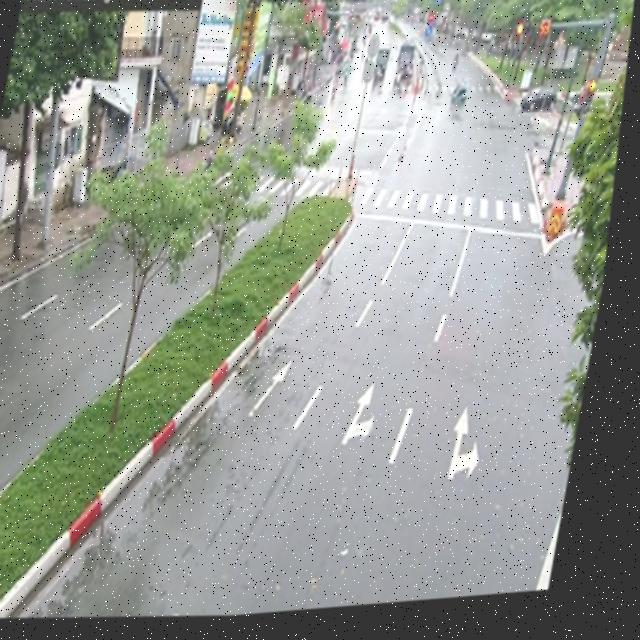Red: (585, 85, 602, 130), (511, 29, 537, 47)
